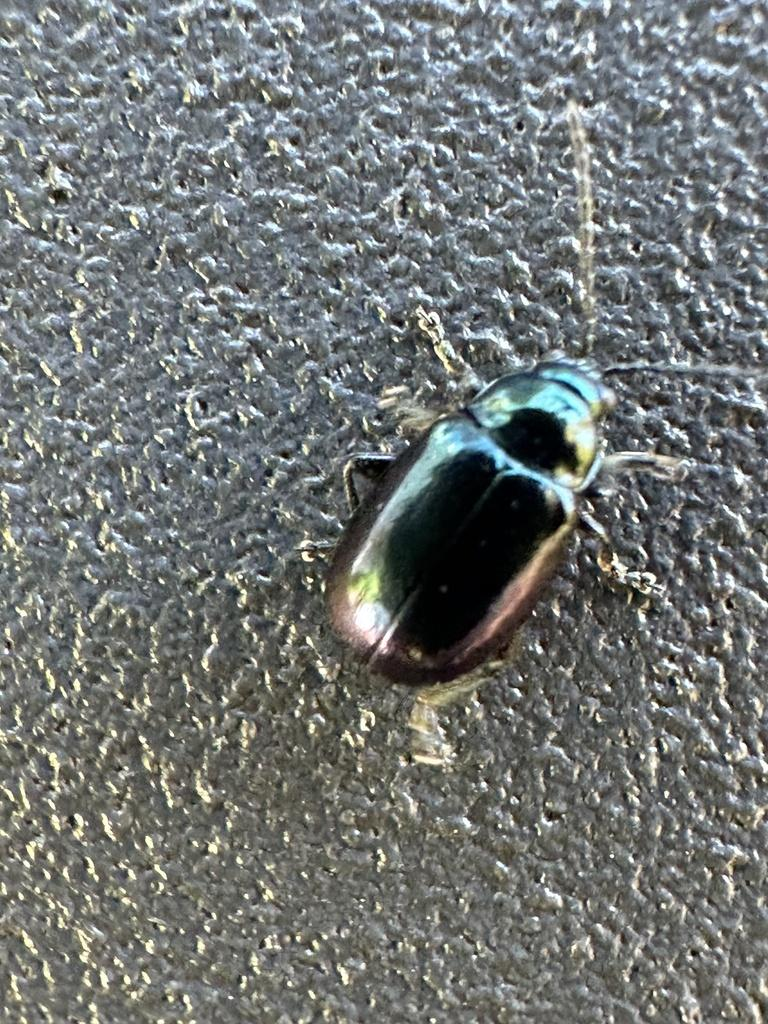flea_beetle: (177, 237, 768, 786)
